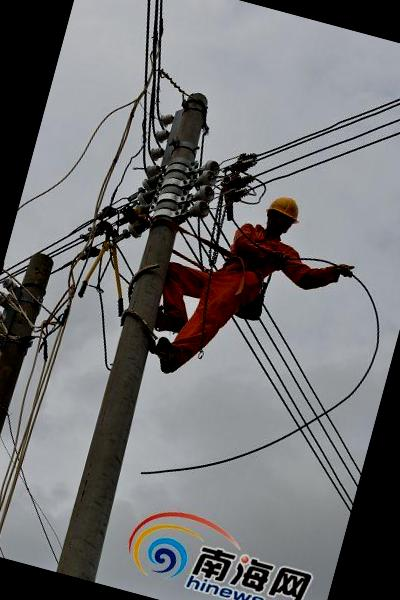person: (130, 169, 370, 416)
